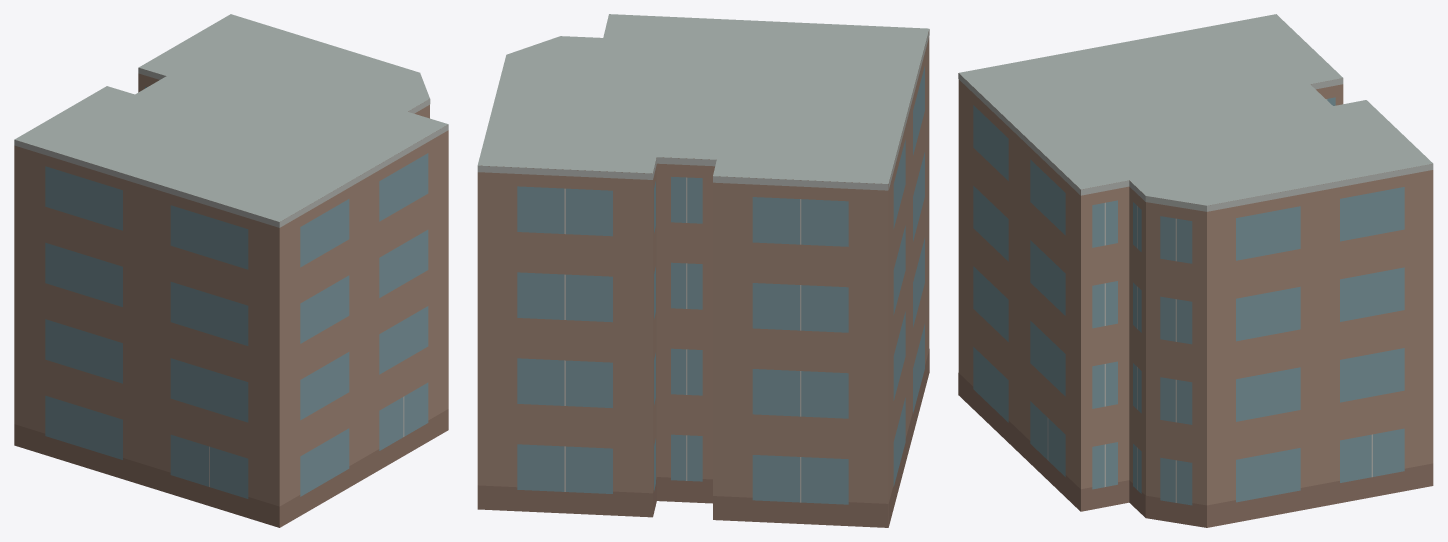
File: survey-upis-32620432.glb
The picture shows the model from 3 angles, left to right: view 1: azimuth 30°, elevation 25°; view 2: azimuth 150°, elevation 25°; view 3: azimuth 270°, elevation 25°; orthographic projection. The views are drawn at different scales.
Parts seen in each view (by area): view 1: survey-upis-32620432.tmp; view 2: survey-upis-32620432.tmp; view 3: survey-upis-32620432.tmp.
Part boxes in pixels (left/top/right/bottom): survey-upis-32620432.tmp: left=14, top=14, right=448, bottom=527; survey-upis-32620432.tmp: left=477, top=14, right=929, bottom=527; survey-upis-32620432.tmp: left=958, top=14, right=1433, bottom=527.
Size of the model in its own units: 16.27 by 12.74 by 17.03.
